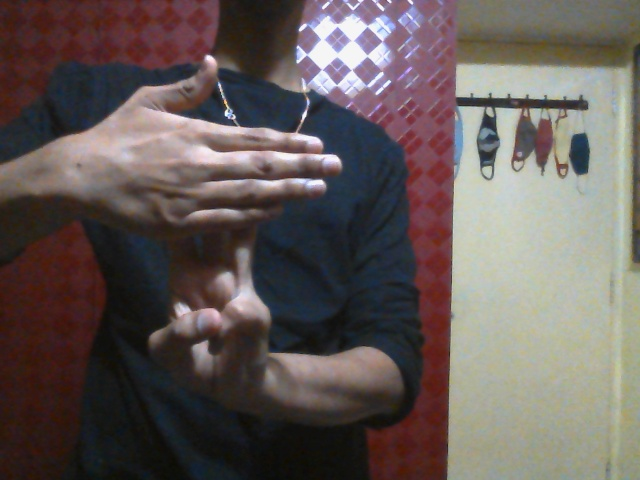M: (114, 54, 343, 398)
